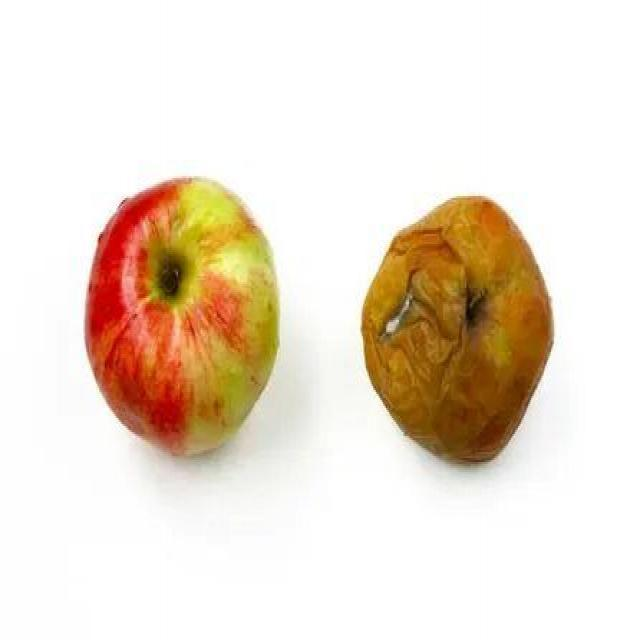Fresh Apple: (88, 172, 294, 460)
Rotten: (354, 200, 566, 470)
